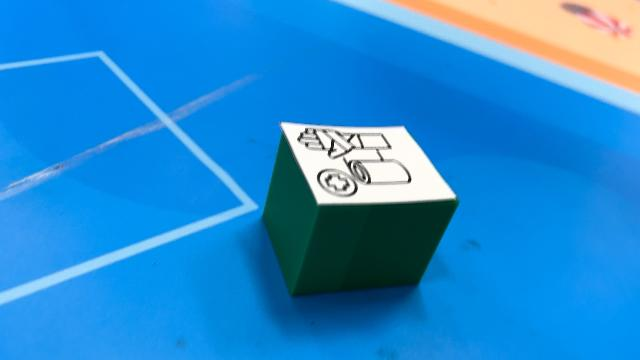bandage: (261, 121, 459, 297)
